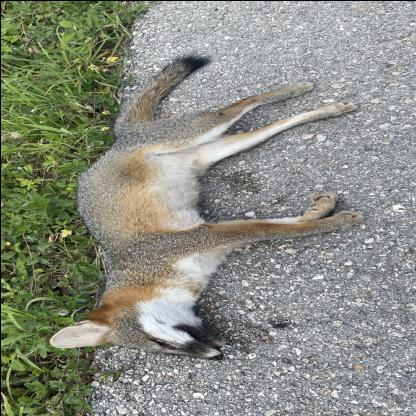zorro: (47, 56, 370, 370)
